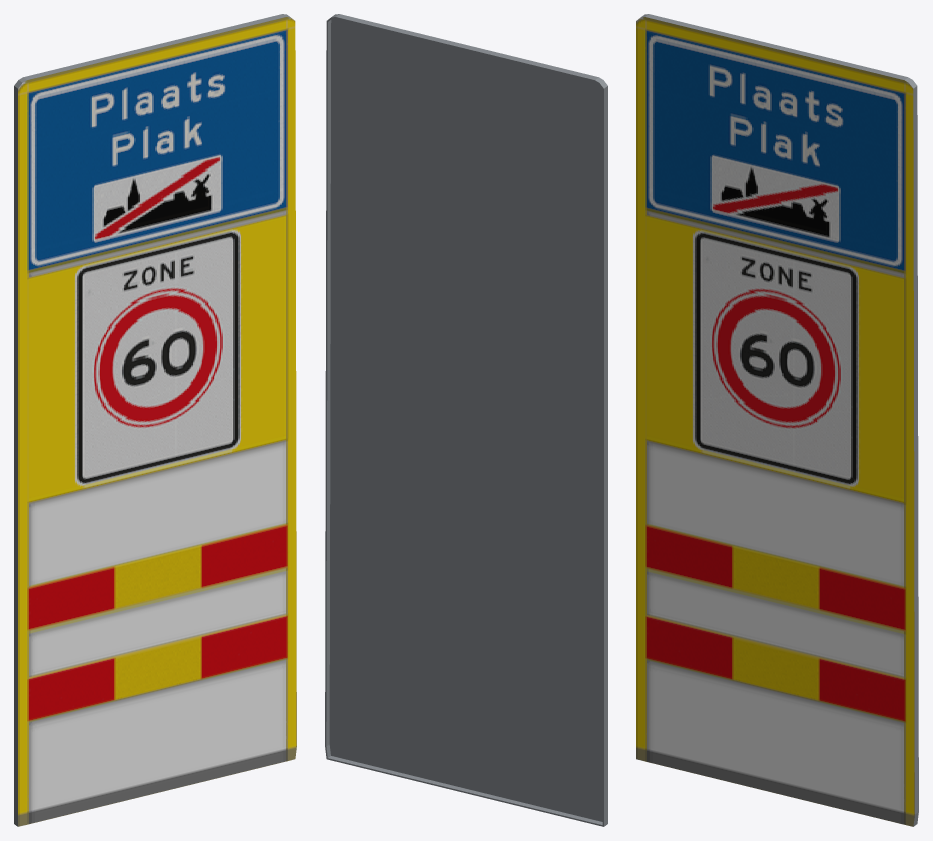
The picture shows the model from 3 angles, left to right: view 1: azimuth 30°, elevation 25°; view 2: azimuth 150°, elevation 25°; view 3: azimuth 330°, elevation 25°; orthographic projection.
Visible parts, largest first — view 1: cat_8c64bb51f408d179; view 2: cat_8c64bb51f408d179; view 3: cat_8c64bb51f408d179.
Part boxes in pixels (x1=…): cat_8c64bb51f408d179: x1=14, y1=14, x2=296, y2=826; cat_8c64bb51f408d179: x1=325, y1=14, x2=607, y2=826; cat_8c64bb51f408d179: x1=636, y1=14, x2=918, y2=826.
Bounding box in the file's own units: 0.6 × 0.015 × 1.53.
Materials: 2 (1 with a texture image).
